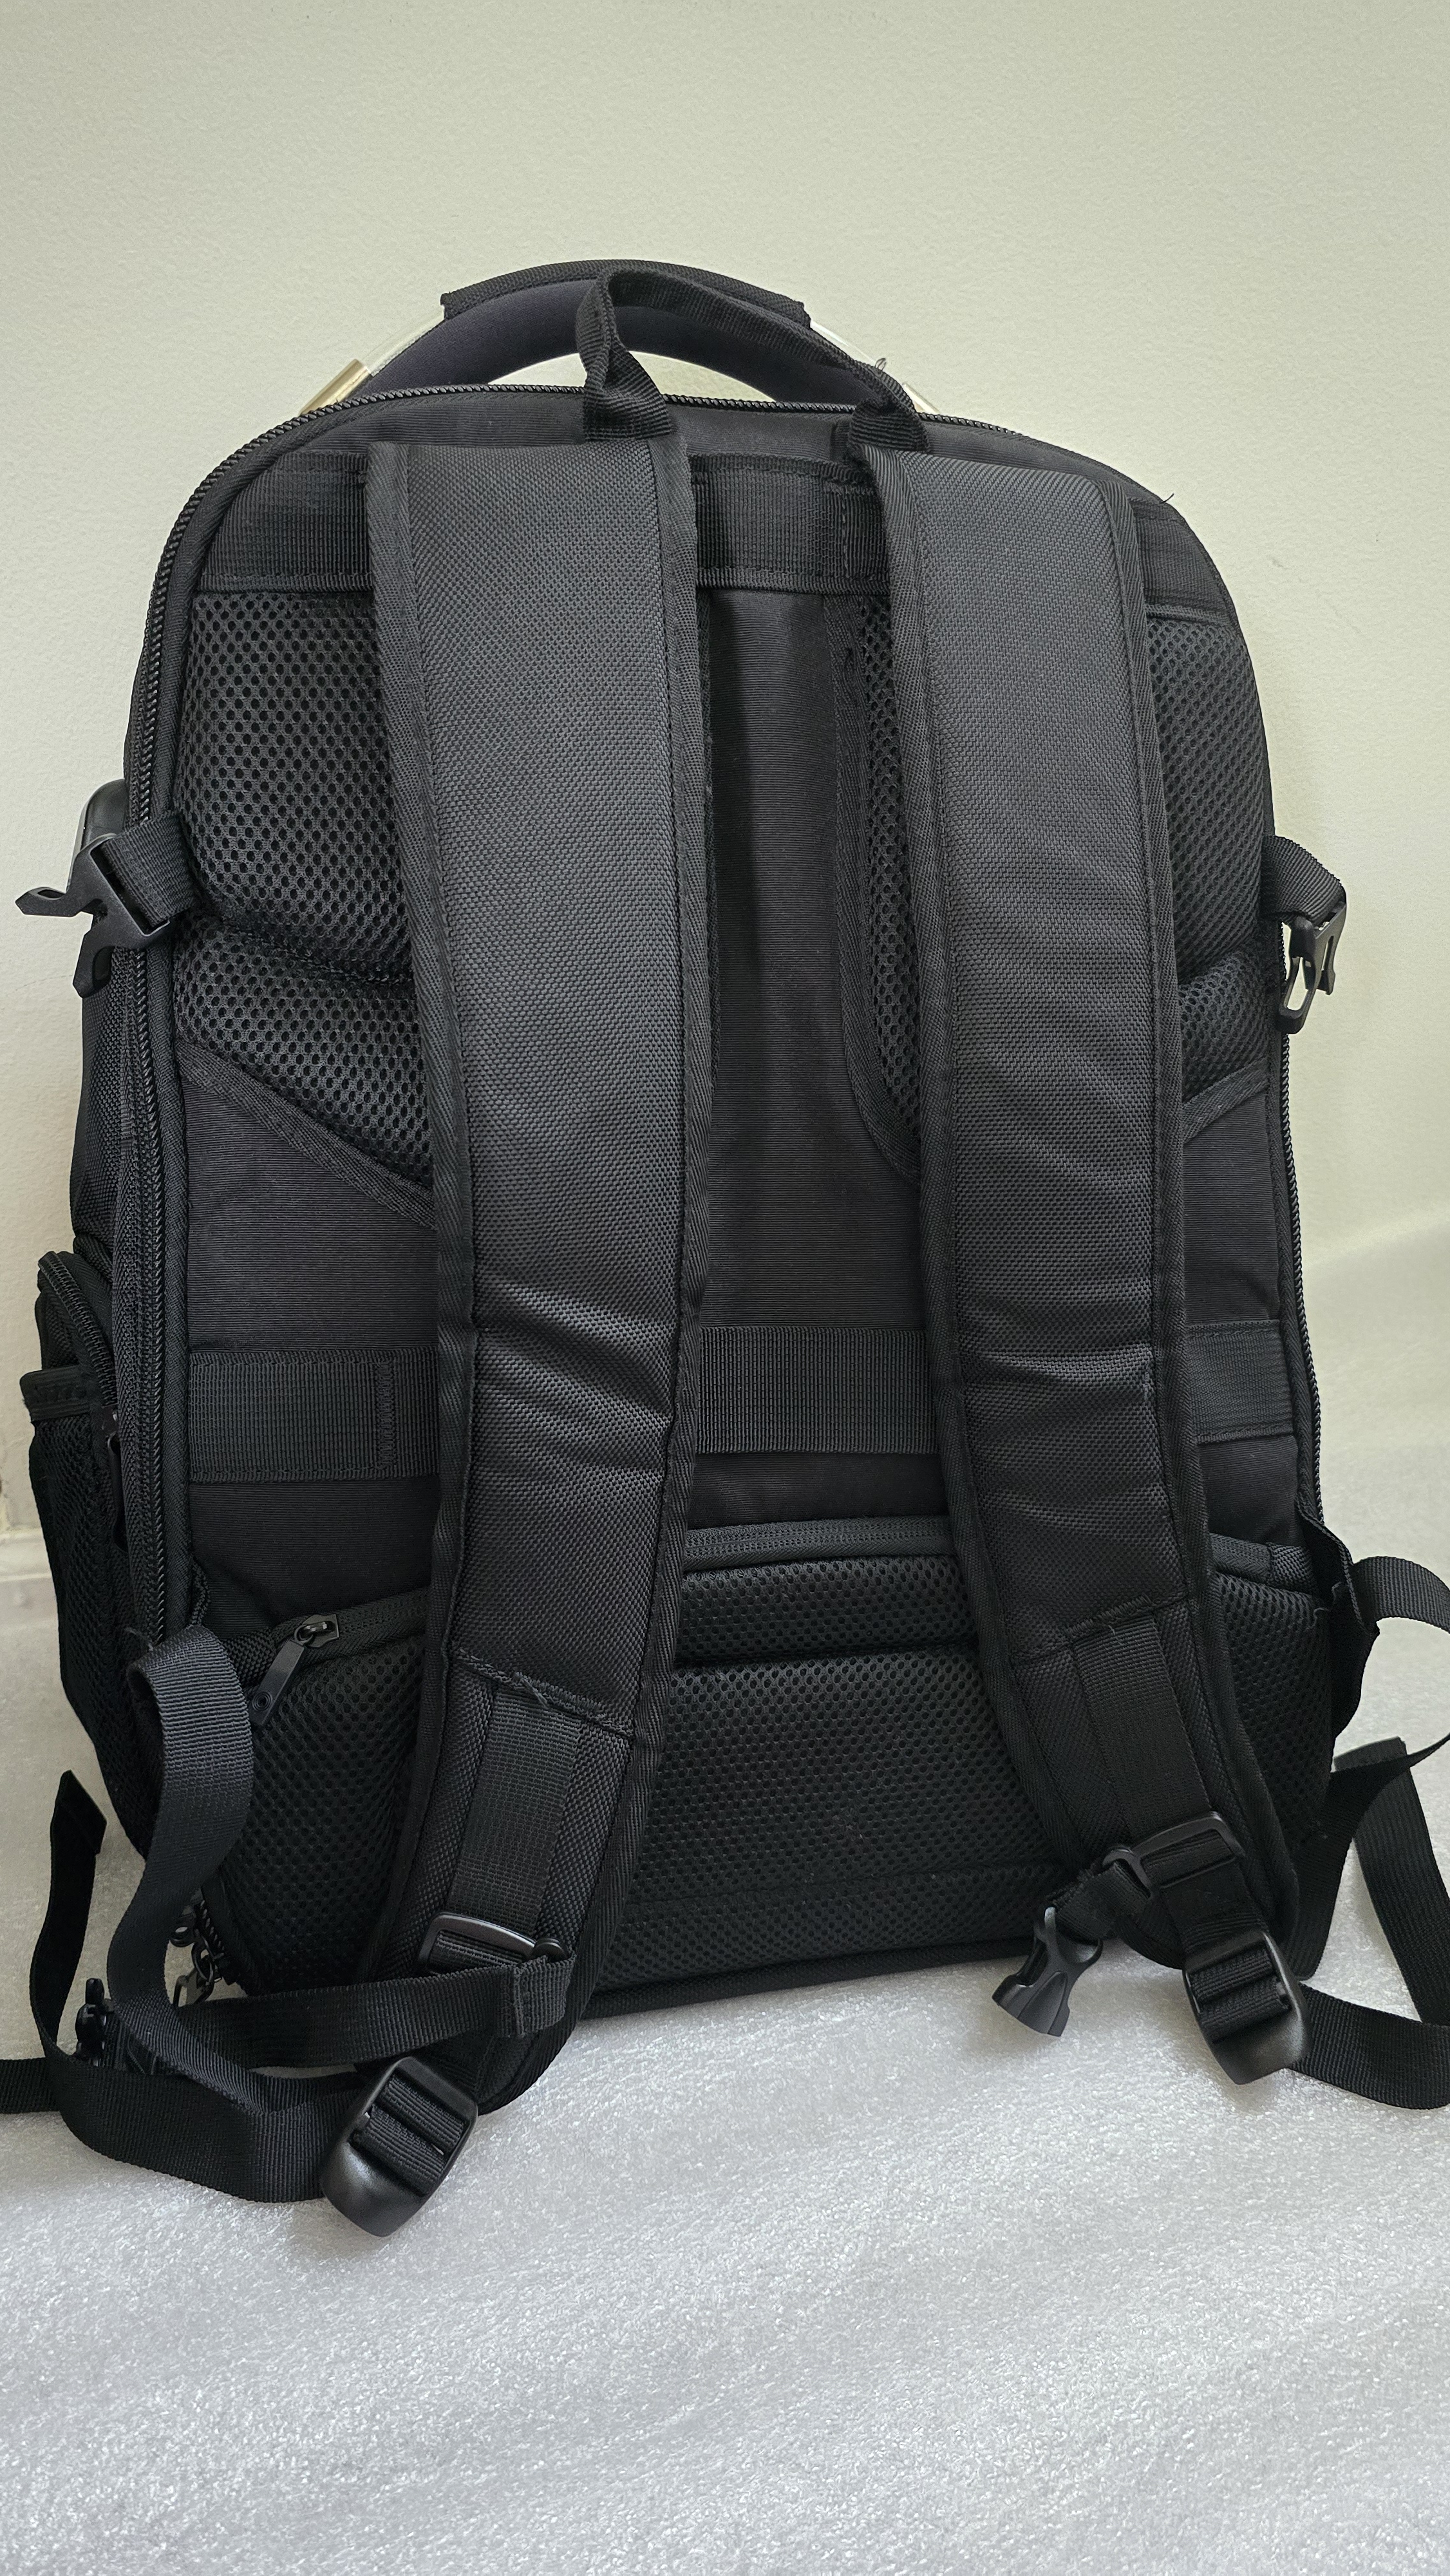bag: (55, 202, 1450, 2181)
